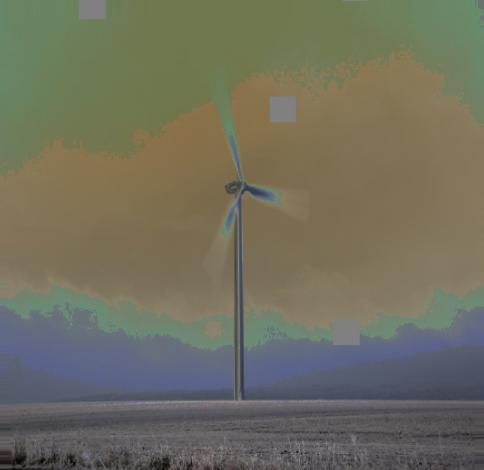wind turbine: (208, 86, 307, 402)
